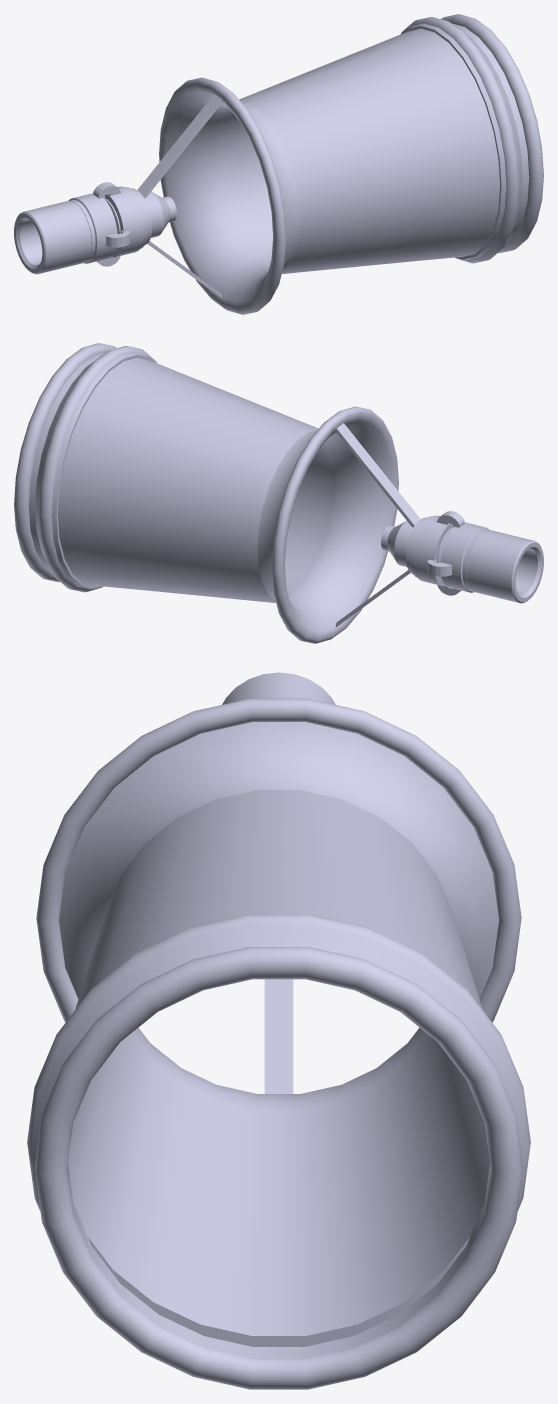
3 views of the same model, one above another, from view 1: azimuth 30°, elevation 25°; view 2: azimuth 150°, elevation 25°; view 3: azimuth 270°, elevation 25° (orthographic). The views are drawn at different scales.
Parts seen in each view (by area): view 1: ГПС_600_у_зборі_012; view 2: ГПС_600_у_зборі_012; view 3: ГПС_600_у_зборі_012.
Part boxes in pixels (x1,y1,x2,y2): ГПС_600_у_зборі_012: [14, 14, 543, 314]; ГПС_600_у_зборі_012: [14, 343, 543, 643]; ГПС_600_у_зборі_012: [27, 672, 530, 1389].
Bounding box in the file's own units: 0.732 × 0.3471 × 0.3497.
